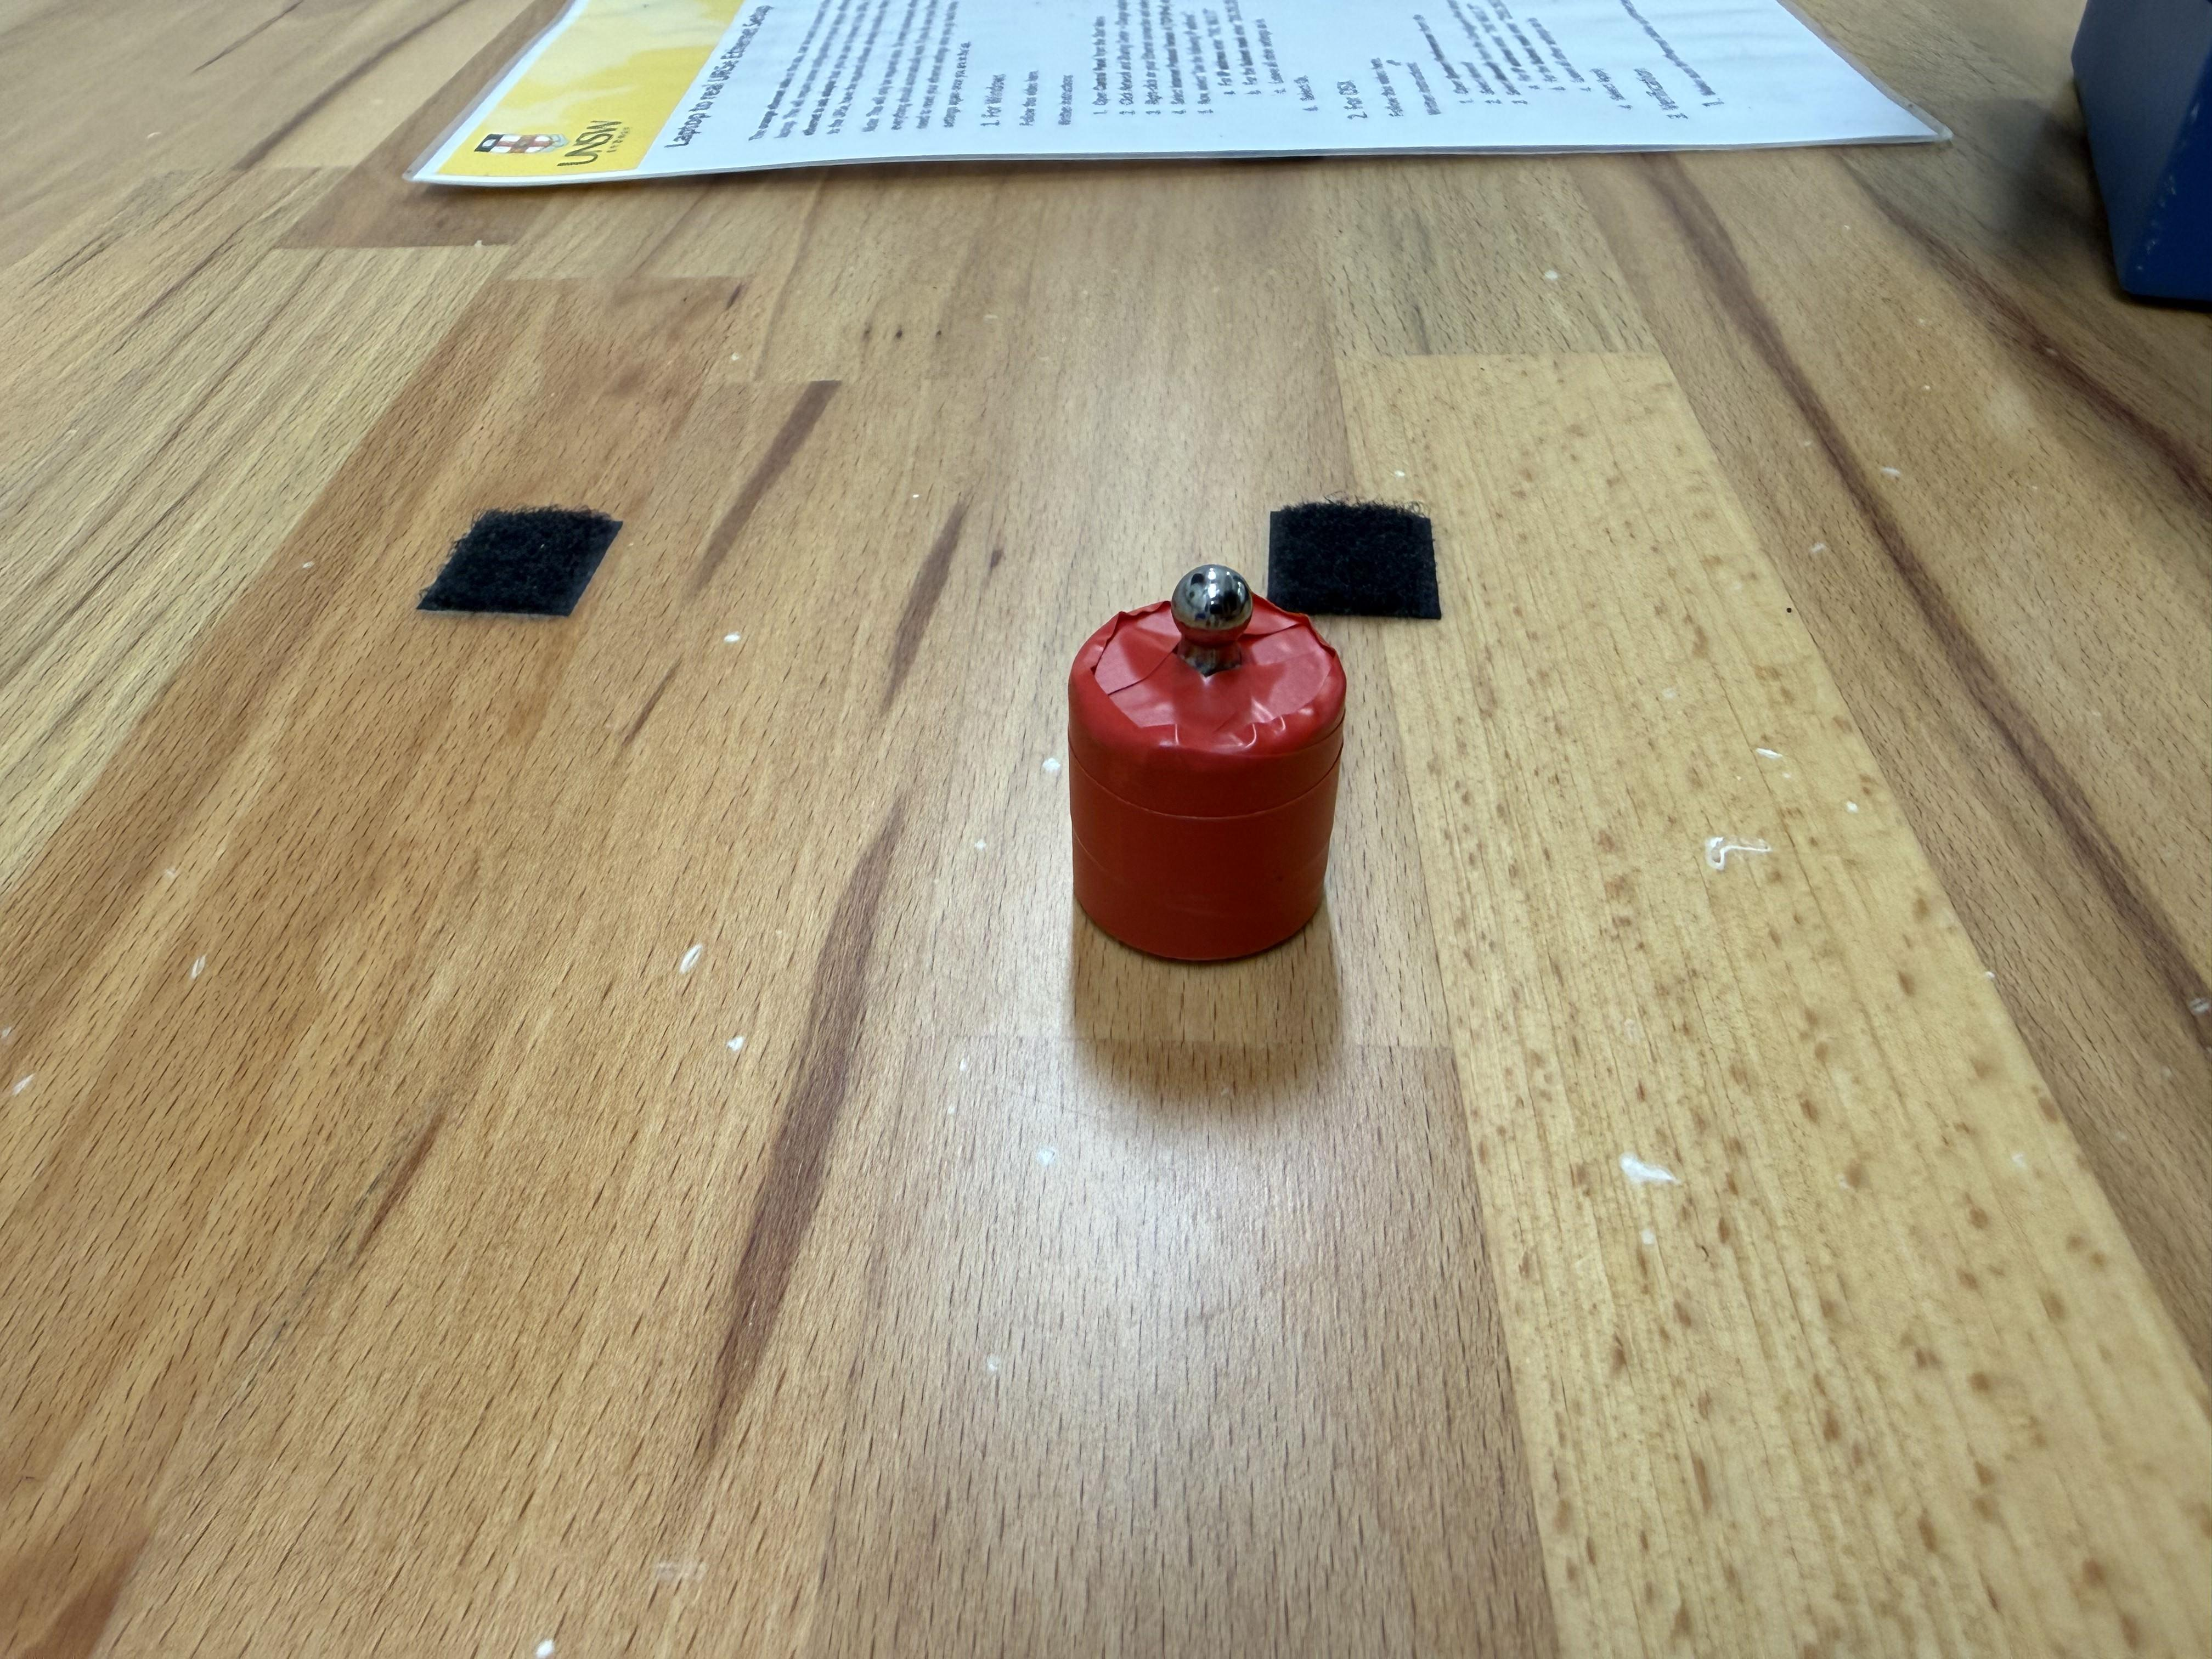red_object: (1048, 560, 1347, 976)
